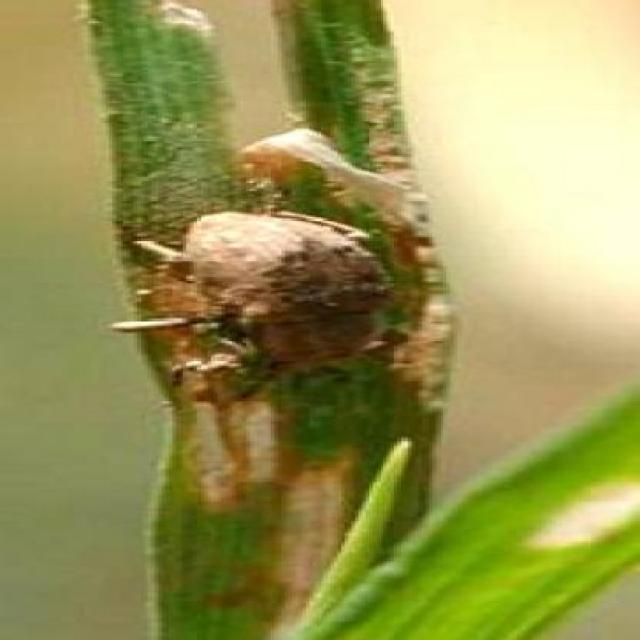rice-bug: (131, 206, 420, 377)
